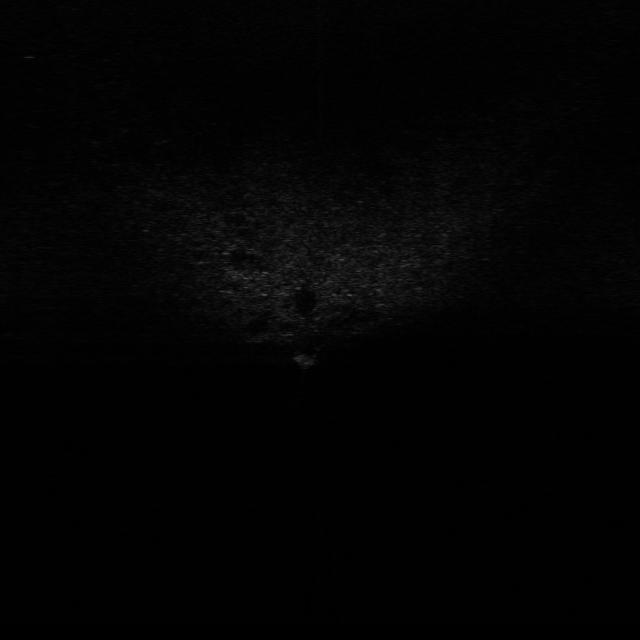cube: (289, 349, 327, 371)
